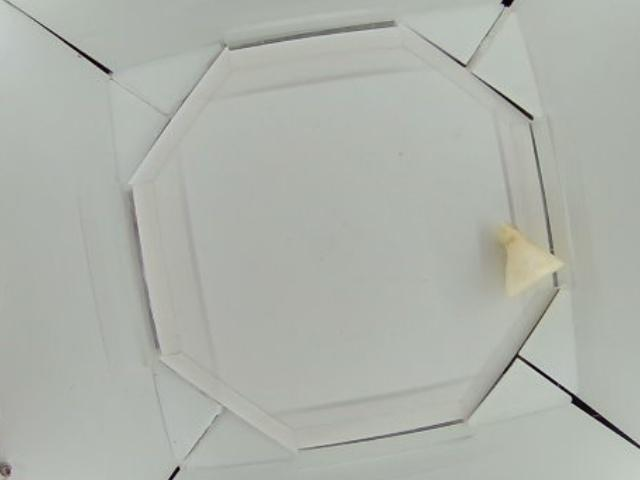Mooli: (495, 222, 562, 295)
